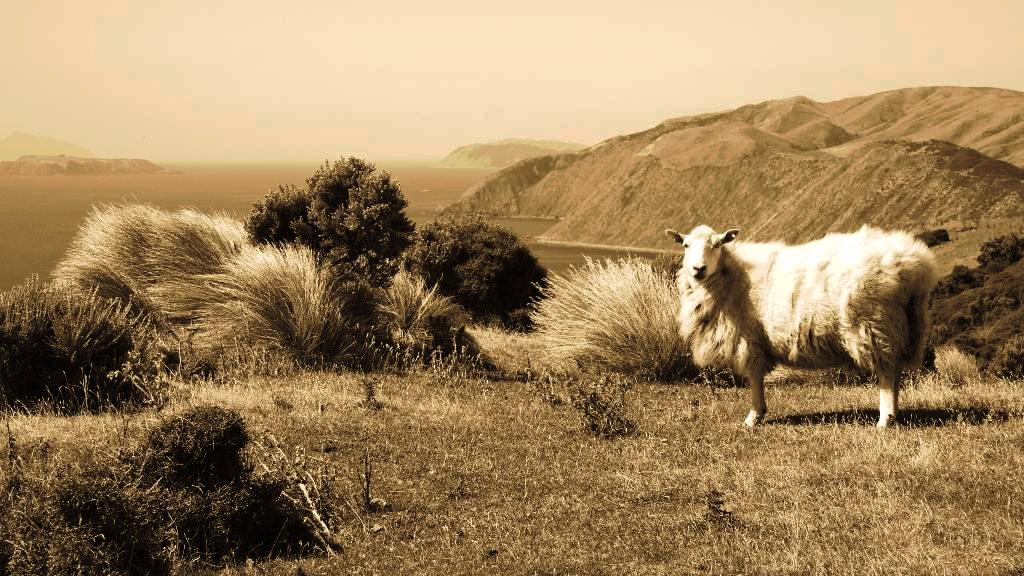Sheep: (666, 223, 939, 431)
